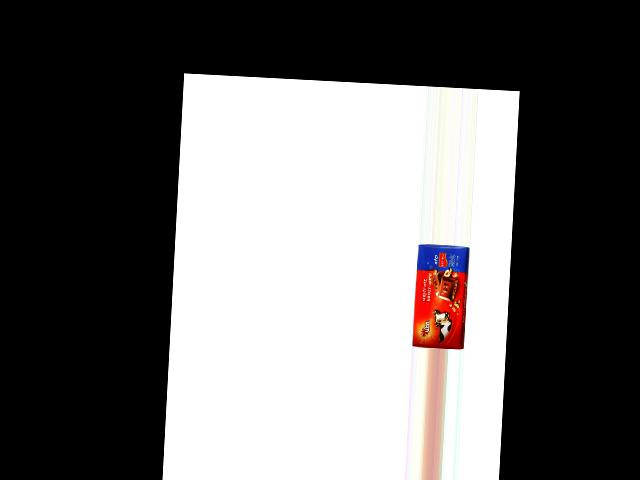chocolate: (413, 245, 473, 349)
